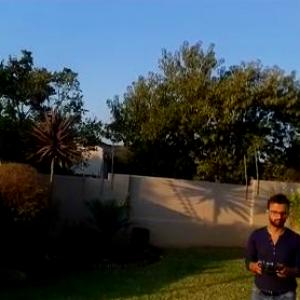follow: (242, 190, 299, 299)
